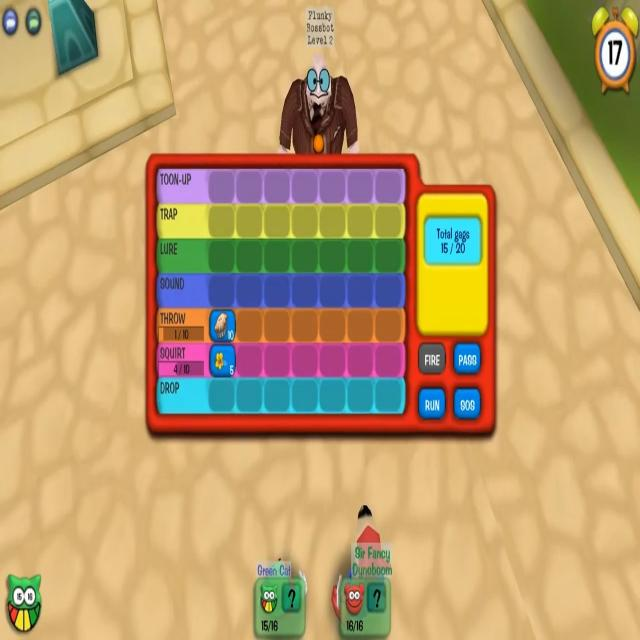flunky: (273, 10, 361, 156)
